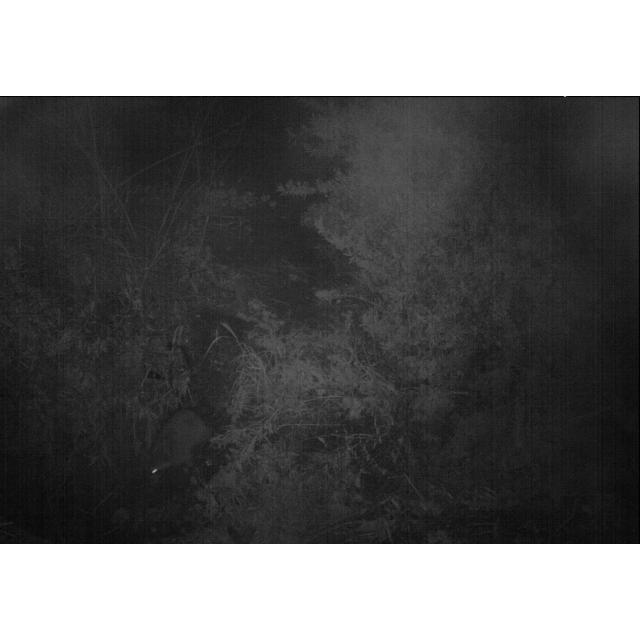animals: (144, 402, 216, 486)
